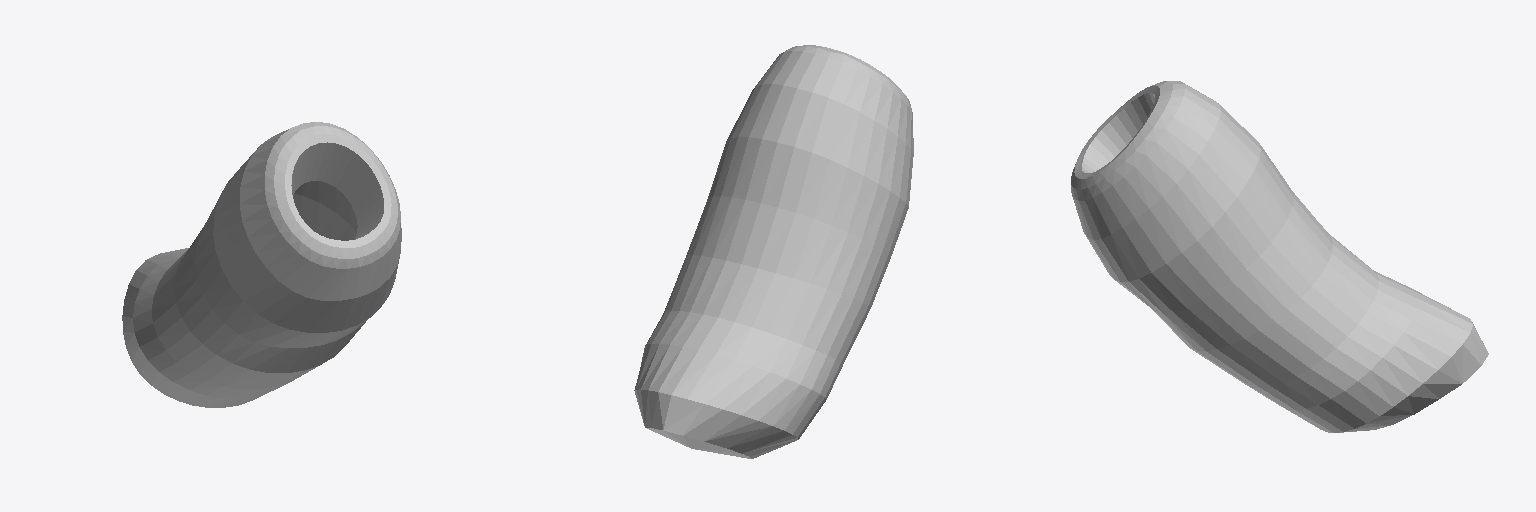
The model's file is 1Anthro shith in.obj.
The picture shows the model from 3 angles: view 1: azimuth 30°, elevation 25°; view 2: azimuth 150°, elevation 25°; view 3: azimuth 270°, elevation 25°; orthographic projection.
Parts seen in each view (by area): view 1: dick_in_sheath.007_horsecock.020; view 2: dick_in_sheath.007_horsecock.020; view 3: dick_in_sheath.007_horsecock.020.
Boxes of the visible parts, x1,y1,x2,y2 form: dick_in_sheath.007_horsecock.020: [122, 122, 401, 407]; dick_in_sheath.007_horsecock.020: [634, 45, 913, 458]; dick_in_sheath.007_horsecock.020: [1071, 81, 1488, 432].
Bounding box in the file's own units: 2.5 × 4.72 × 5.34.